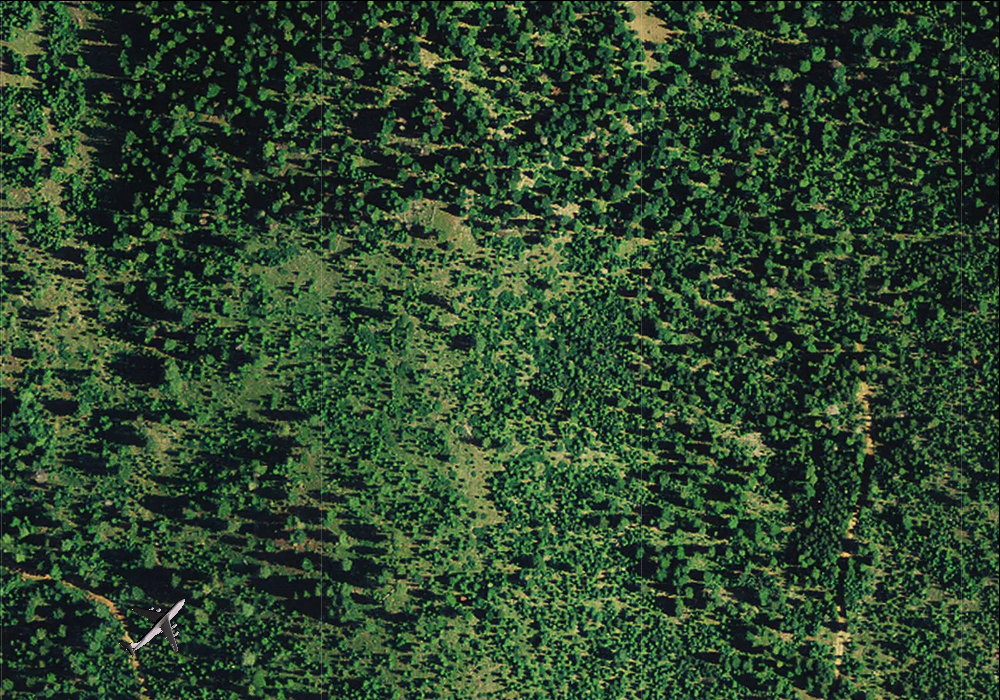plane: (100, 571, 208, 679)
